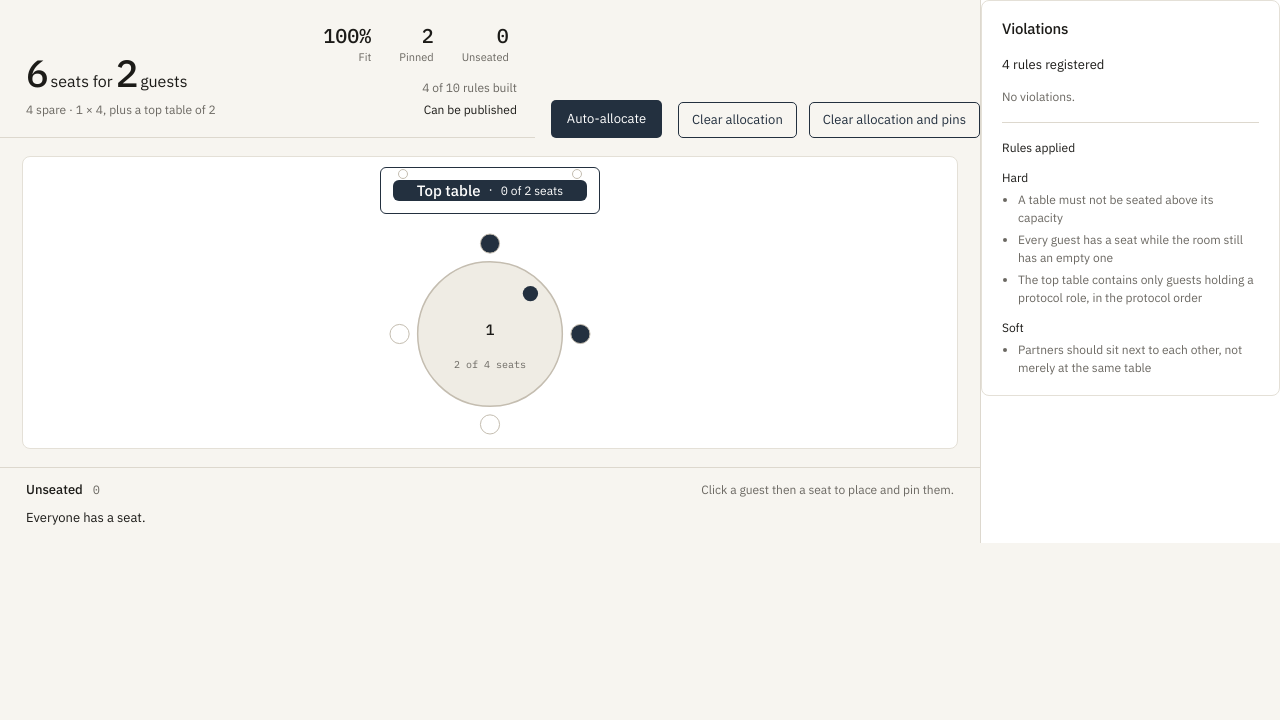
Test case: PlanScreen — releasing a pinned guest › releasing one of two guests pinned at the same table keeps it pinned and drops it to one seat
Click the button "1 2 of 4 seats": [490, 334] box 390,234 -> 590,434
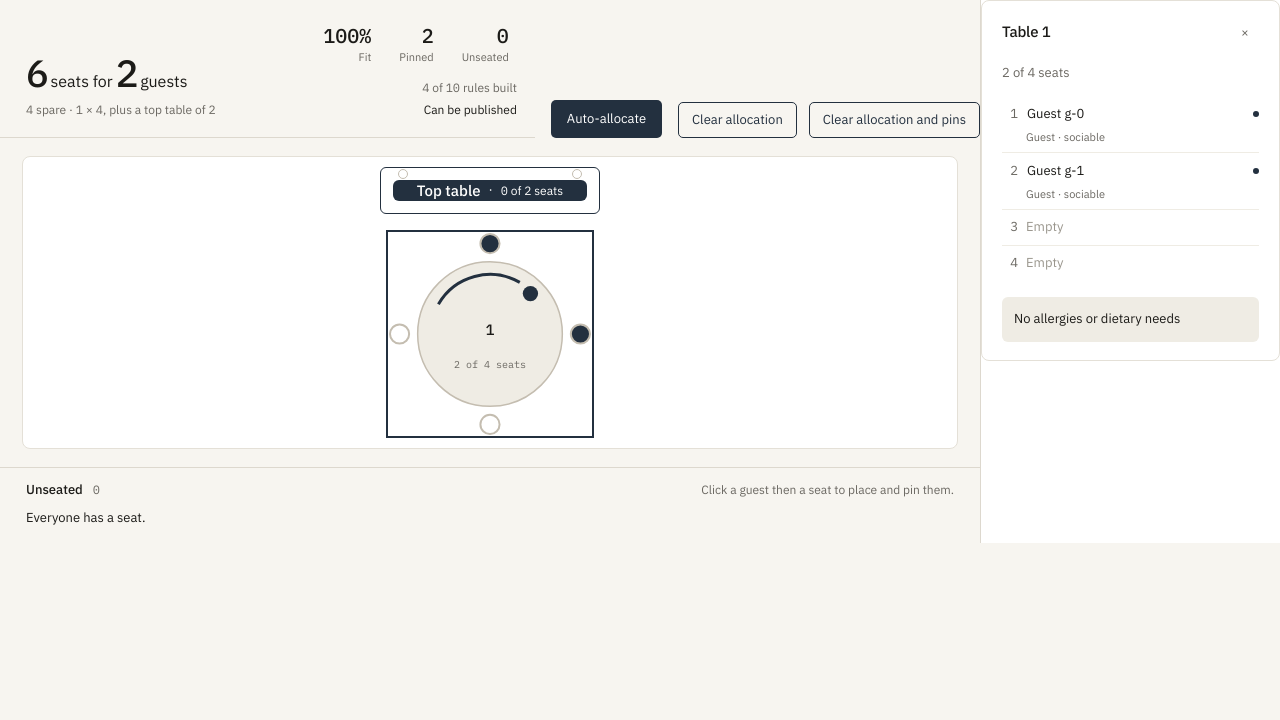
Click the button named "Release Guest g-0 from": [1056, 114] box 1026,103 -> 1085,126
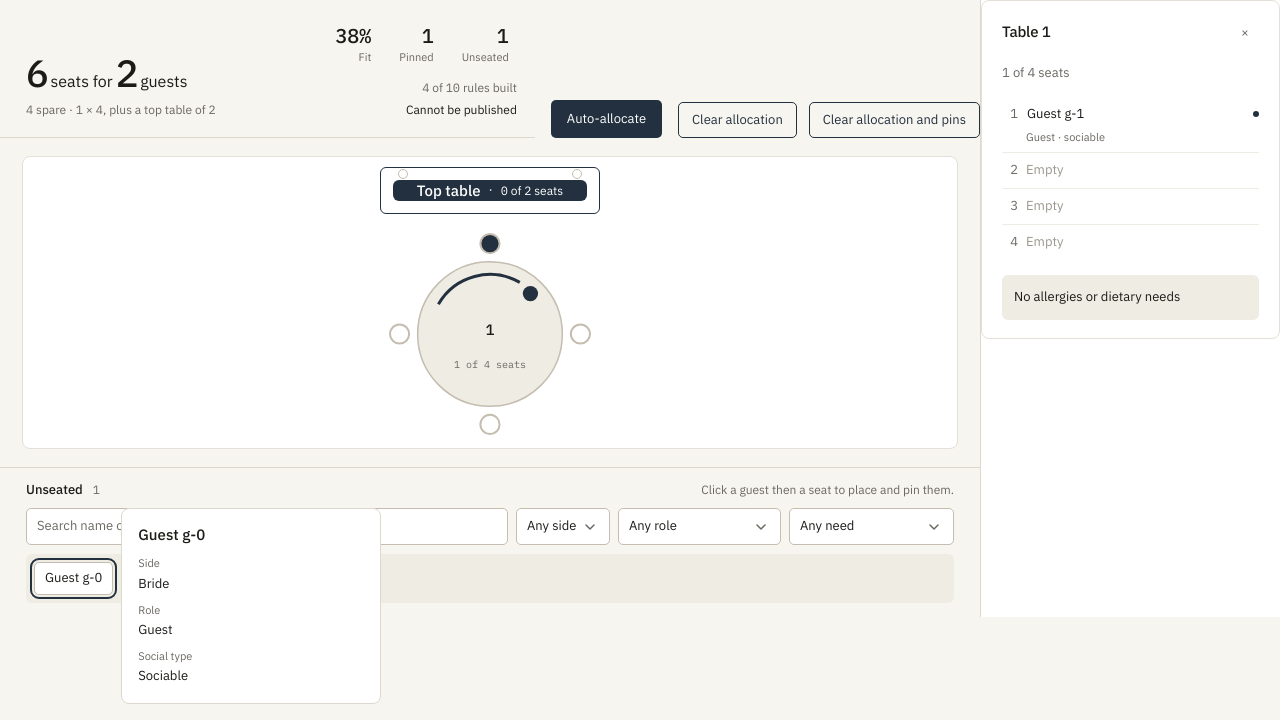
Expected: the list item "1 1 of 4 seats" is shown, 390,234 -> 590,434
